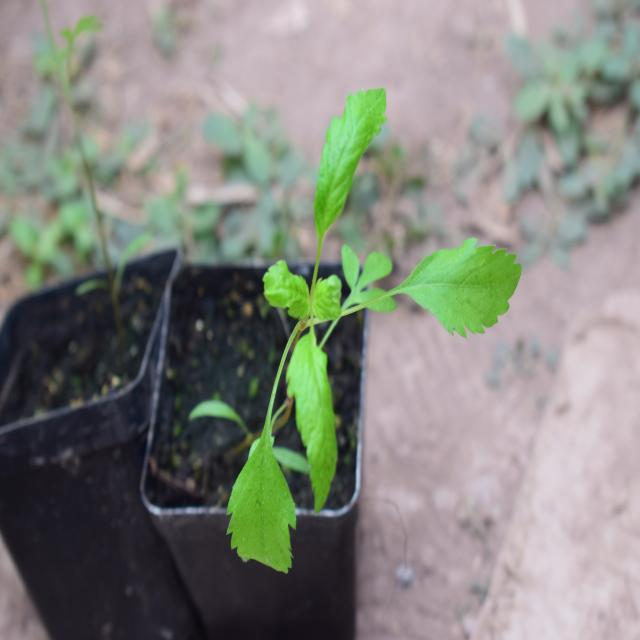Bidens pilosa: (205, 73, 522, 580)
